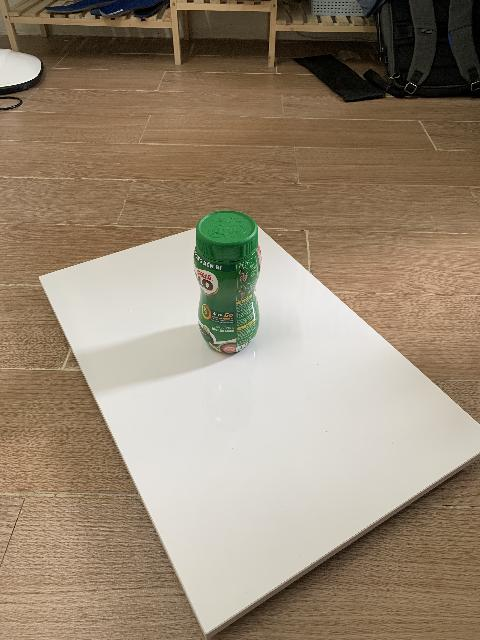milo: (193, 210, 262, 354)
